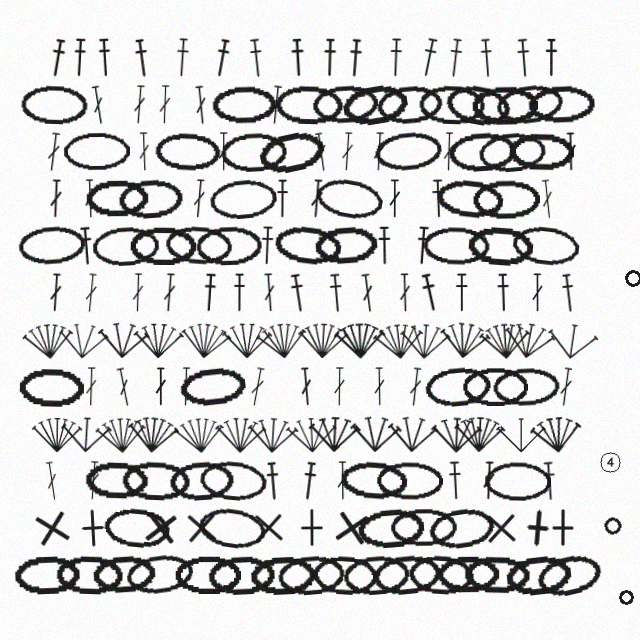chain: (533, 549, 606, 601), (255, 126, 327, 178), (313, 174, 385, 224), (443, 80, 514, 130), (196, 504, 269, 552), (339, 80, 410, 129), (426, 504, 498, 552), (124, 550, 195, 598), (494, 81, 566, 128), (272, 222, 343, 269), (434, 176, 505, 222), (510, 223, 581, 269), (503, 552, 573, 598), (198, 458, 269, 503), (371, 552, 442, 597), (178, 364, 247, 410), (373, 129, 443, 174), (477, 130, 548, 174), (276, 553, 347, 597), (423, 364, 492, 409), (102, 505, 171, 550), (375, 83, 445, 127), (208, 177, 278, 221), (356, 506, 425, 550), (447, 130, 517, 173), (164, 224, 234, 267), (342, 553, 410, 597), (17, 224, 86, 267), (339, 459, 408, 502), (407, 553, 476, 596), (91, 225, 161, 267), (311, 83, 379, 126), (117, 177, 185, 220), (466, 224, 534, 267), (168, 459, 236, 502), (492, 366, 561, 408), (311, 554, 380, 596), (313, 224, 380, 267), (91, 553, 158, 596), (154, 131, 222, 173), (207, 554, 275, 596), (20, 84, 89, 125), (274, 84, 343, 125), (121, 460, 190, 501), (220, 131, 287, 173), (249, 554, 316, 596), (527, 84, 595, 125), (55, 554, 123, 595), (422, 226, 491, 266), (418, 84, 485, 125), (195, 225, 262, 266), (13, 554, 80, 595), (472, 179, 540, 219), (84, 460, 150, 501), (211, 85, 278, 125), (471, 85, 538, 125), (376, 461, 443, 501), (484, 461, 551, 501), (463, 555, 530, 595), (390, 508, 458, 547), (508, 132, 574, 172), (18, 367, 84, 407), (63, 132, 130, 171), (129, 226, 196, 265), (174, 555, 241, 594), (462, 367, 528, 406), (85, 179, 150, 218), (436, 555, 501, 594)
double: (114, 367, 134, 407), (248, 367, 267, 407), (89, 85, 107, 125), (312, 132, 330, 172), (557, 367, 575, 407), (43, 461, 61, 501), (45, 132, 62, 172), (539, 179, 556, 219), (359, 273, 376, 313), (407, 367, 424, 407), (193, 85, 209, 125), (268, 85, 284, 125), (83, 273, 99, 313), (191, 179, 207, 218), (309, 179, 325, 218), (298, 367, 314, 406), (132, 85, 147, 124), (340, 132, 355, 171), (48, 273, 63, 312), (162, 273, 177, 312), (262, 273, 277, 312), (86, 461, 101, 500), (158, 85, 172, 124), (137, 132, 151, 171), (372, 132, 386, 171), (442, 132, 456, 171), (49, 179, 63, 218), (83, 179, 97, 218), (131, 273, 145, 312), (398, 273, 412, 312), (84, 367, 98, 406), (179, 367, 193, 406), (482, 461, 496, 500), (217, 132, 230, 171), (564, 132, 577, 171), (388, 179, 401, 218), (531, 273, 544, 312), (154, 367, 167, 406), (333, 367, 346, 406), (373, 367, 386, 406), (336, 461, 349, 500)
fan: (500, 316, 558, 363), (544, 317, 601, 363), (178, 317, 234, 362), (254, 317, 310, 362), (437, 317, 493, 362), (21, 318, 76, 362), (371, 318, 426, 362), (172, 412, 227, 456), (529, 412, 584, 456), (126, 412, 180, 456), (56, 318, 111, 361), (96, 318, 151, 361), (386, 412, 440, 455), (398, 319, 452, 361), (478, 319, 532, 361), (94, 413, 148, 455), (246, 413, 300, 455), (296, 319, 350, 360), (349, 413, 403, 454), (132, 319, 185, 360), (60, 413, 113, 454), (285, 413, 338, 454), (308, 413, 361, 454), (453, 413, 506, 454), (214, 414, 267, 454), (430, 414, 483, 454), (334, 320, 386, 360), (221, 320, 273, 359), (31, 414, 83, 453), (495, 414, 547, 453)
half_double: (418, 272, 441, 313), (418, 37, 440, 78), (47, 38, 68, 78), (132, 38, 152, 78), (212, 38, 232, 78), (288, 273, 308, 313), (247, 38, 266, 78), (446, 38, 465, 78), (559, 273, 578, 313), (300, 461, 319, 501), (77, 226, 95, 266), (327, 273, 345, 313), (264, 461, 282, 501), (347, 38, 364, 78), (478, 38, 495, 78), (515, 38, 532, 78), (541, 461, 558, 501), (71, 38, 88, 77), (96, 38, 113, 77), (174, 38, 191, 77), (289, 38, 306, 77), (414, 226, 431, 265), (201, 273, 218, 312), (322, 38, 338, 77), (388, 38, 404, 77), (430, 179, 446, 218), (259, 226, 275, 265), (495, 273, 511, 312), (447, 461, 463, 500), (275, 179, 290, 218), (377, 226, 392, 265), (232, 273, 247, 312), (454, 273, 469, 312), (544, 38, 558, 77)
noise: (598, 450, 622, 474), (601, 514, 624, 537), (623, 268, 640, 289), (617, 588, 635, 606)
single: (29, 505, 75, 551), (329, 505, 374, 550), (139, 506, 182, 549), (517, 507, 559, 549), (181, 507, 222, 548), (248, 507, 289, 548), (73, 508, 113, 548), (481, 508, 521, 548), (292, 508, 331, 547), (543, 508, 582, 547)
